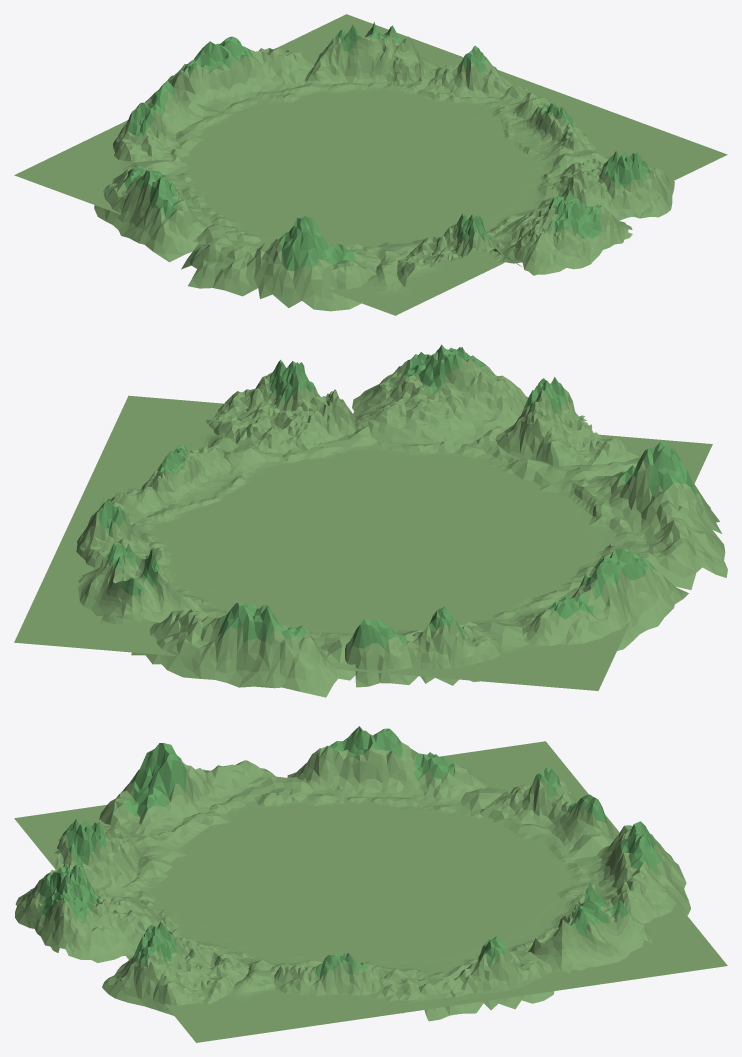
The model's file is Mountains_D6.fbx.
3 renders of one model, top to bottom at view 1: azimuth 30°, elevation 25°; view 2: azimuth 150°, elevation 25°; view 3: azimuth 270°, elevation 25°, orthographic. The views are drawn at different scales.
Parts seen in each view (by area): view 1: Plane.016; view 2: Plane.016; view 3: Plane.016.
Part boxes in pixels (<box>): Plane.016: <box>14,14,727,315</box>; Plane.016: <box>14,344,727,697</box>; Plane.016: <box>14,726,727,1042</box>.
Bounding box in the file's own units: 472743 × 58302 × 472743.
